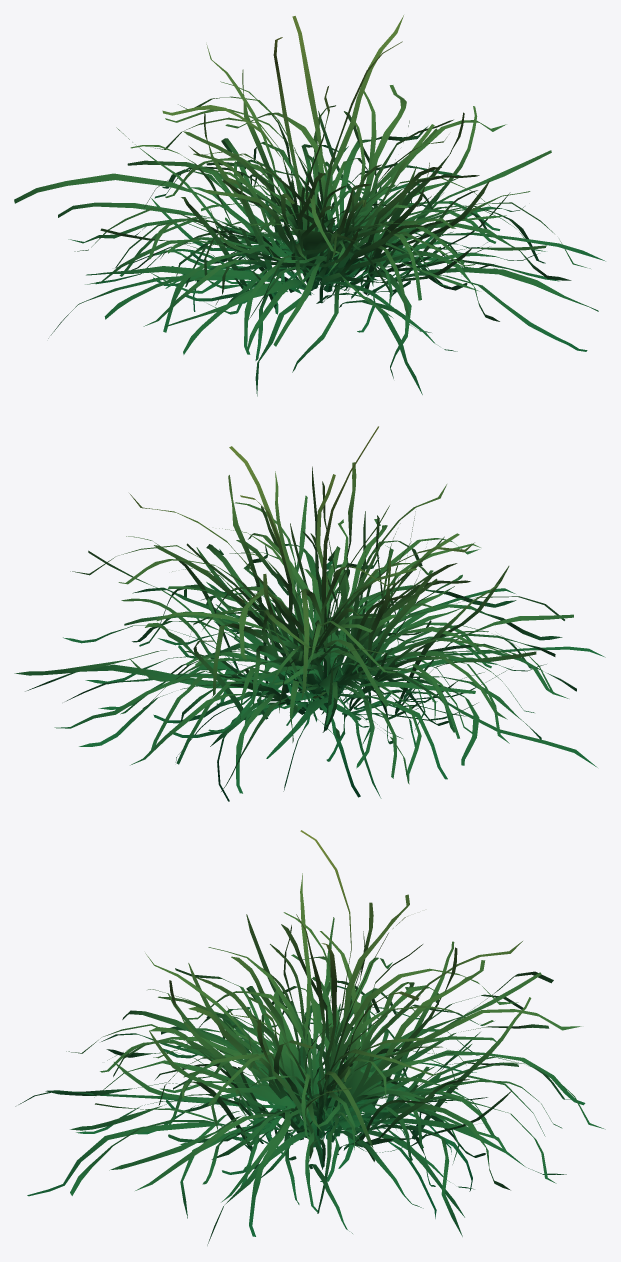
File: grass_medium_01_1.glb
3 views of the same model, one above another, from view 1: azimuth 30°, elevation 25°; view 2: azimuth 150°, elevation 25°; view 3: azimuth 270°, elevation 25° (orthographic). The views are drawn at different scales.
Parts seen in each view (by area): view 1: grass_medium_01_large_b_LOD0; view 2: grass_medium_01_large_b_LOD0; view 3: grass_medium_01_large_b_LOD0.
Part boxes in pixels (<box>): grass_medium_01_large_b_LOD0: <box>14,15,605,396</box>; grass_medium_01_large_b_LOD0: <box>14,426,605,801</box>; grass_medium_01_large_b_LOD0: <box>15,830,605,1245</box>.
Bounding box in the file's own units: 0.2841 × 0.1693 × 0.2757.
